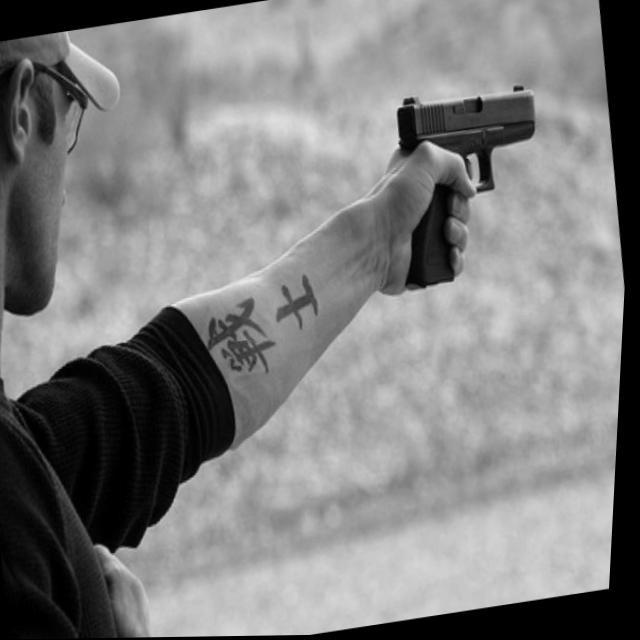weapon: (381, 76, 562, 293)
